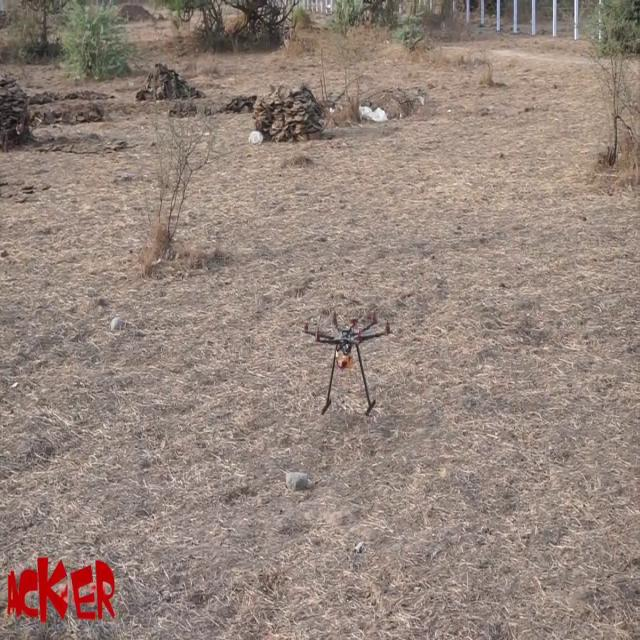drone: (301, 283, 397, 428)
